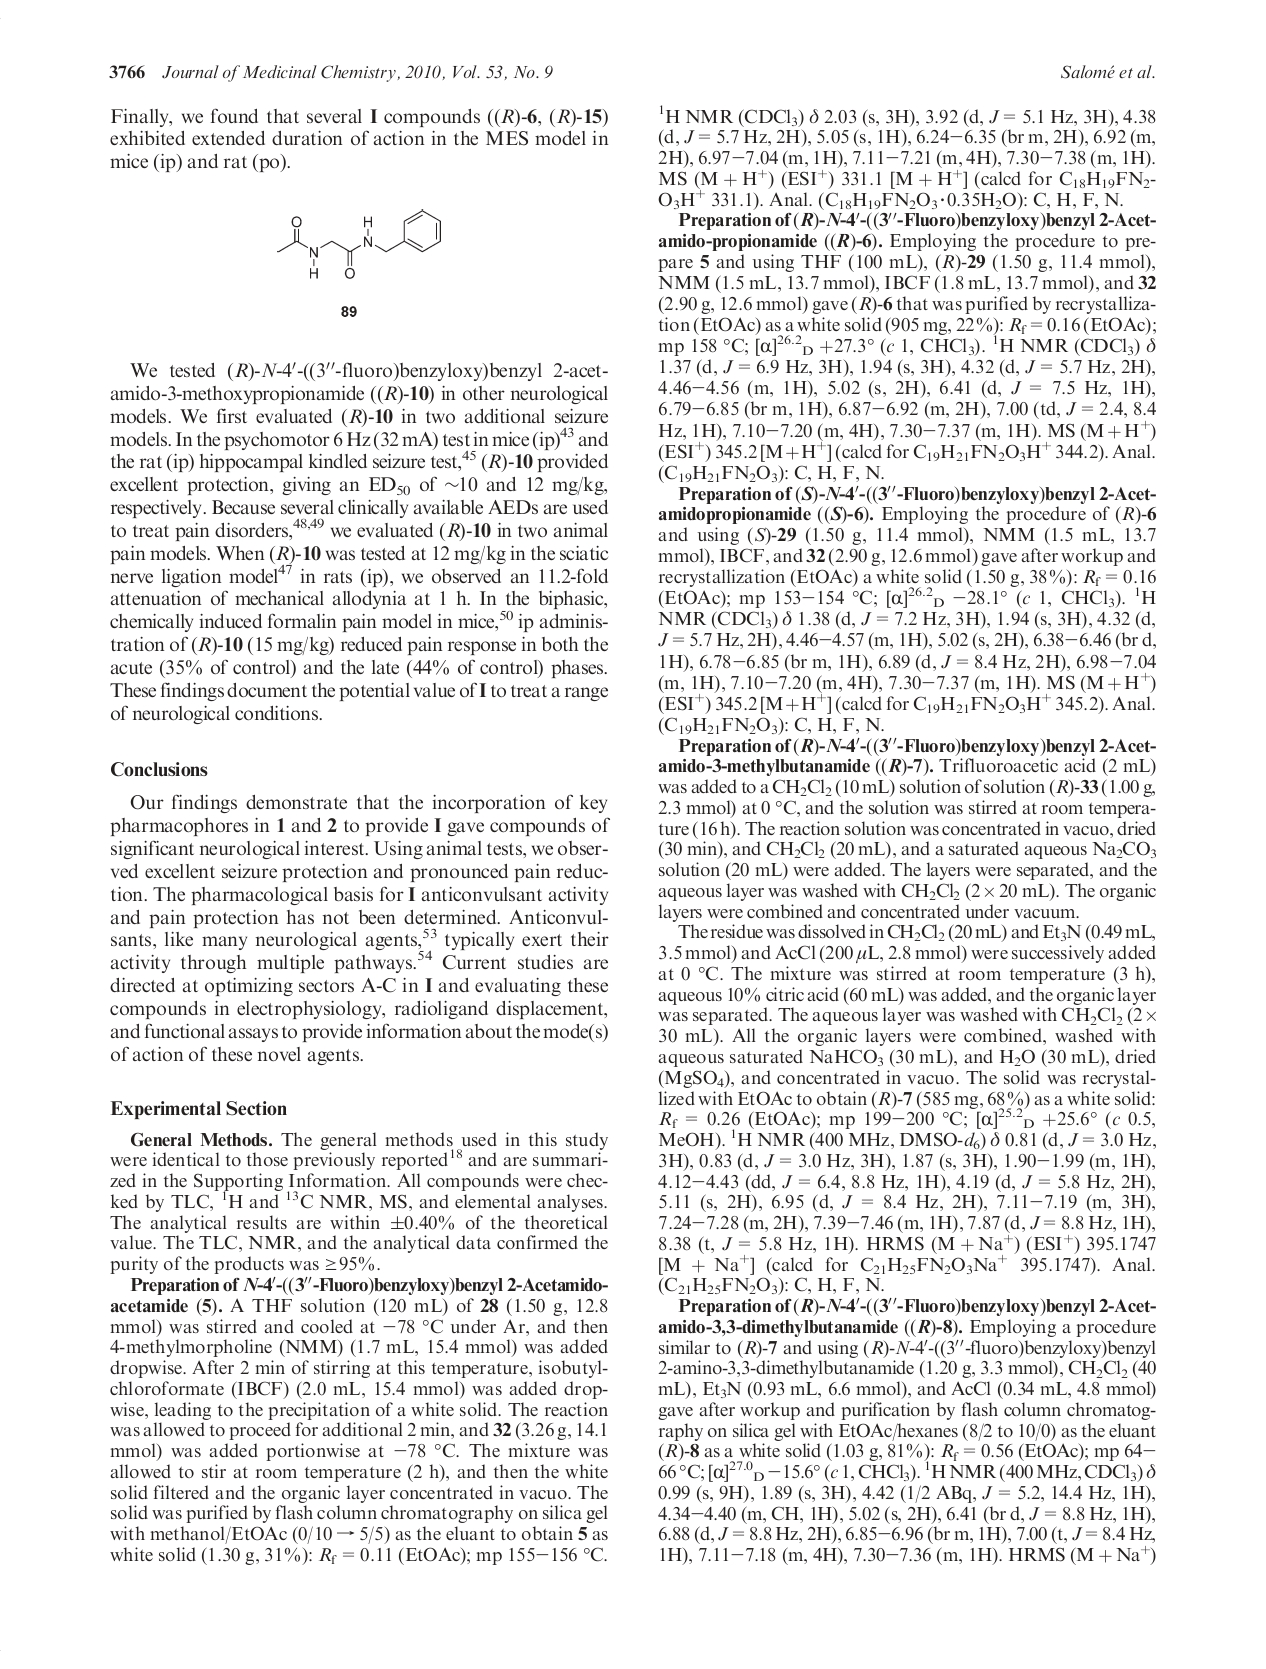exist_molecular: (271, 205, 452, 286)
